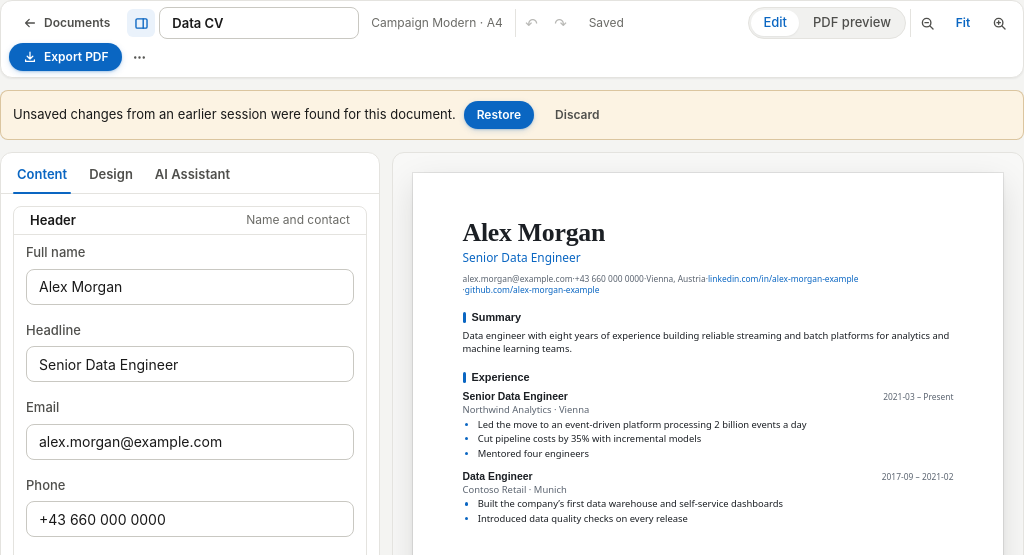
it: Portfolio Studio editor › offers to restore an unsaved draft from an earlier session
The width and height of the screenshot is (1024, 555).
Click the button "Restore" at {"x": 499, "y": 115}, box [464, 101, 534, 129]
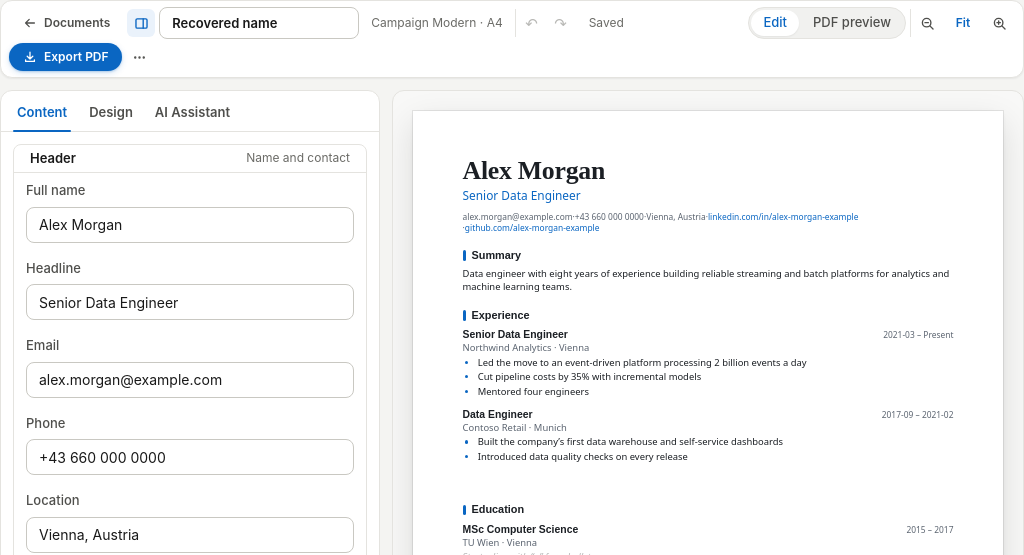
Expected: the field named "Document name" holds "Recovered name", [159, 7, 359, 39]
